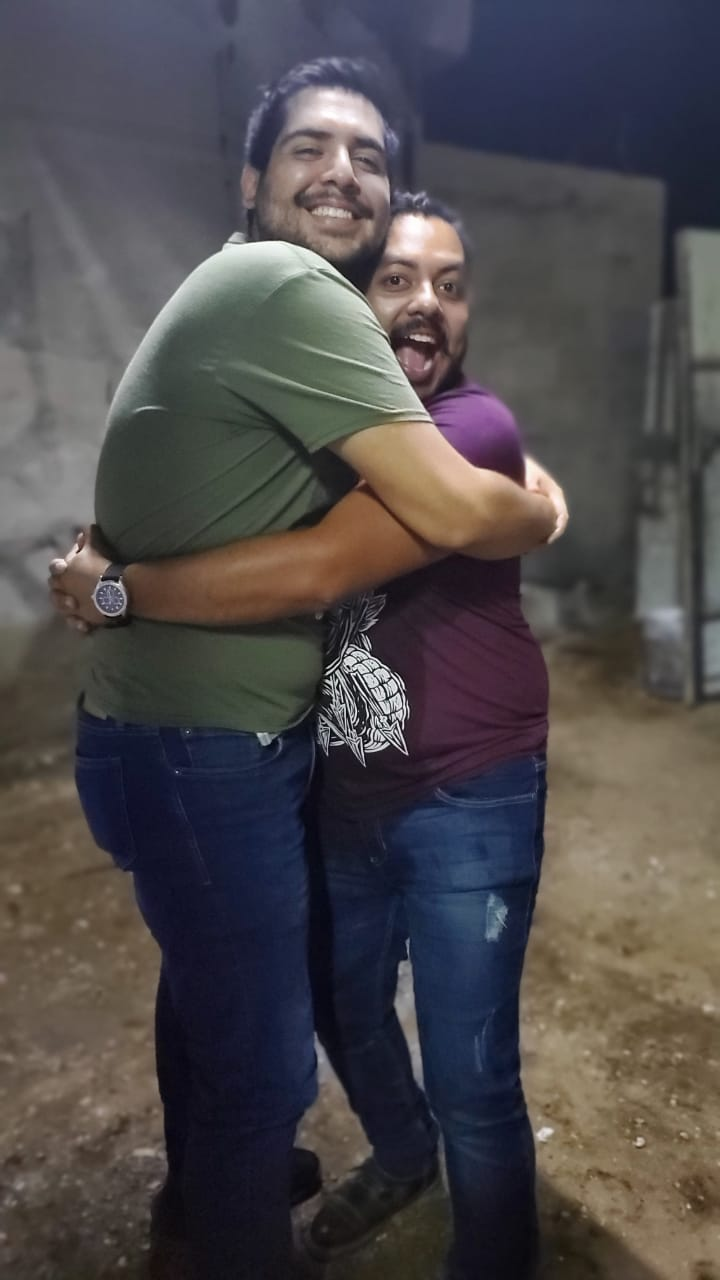Yoshi: (372, 183, 486, 428)
